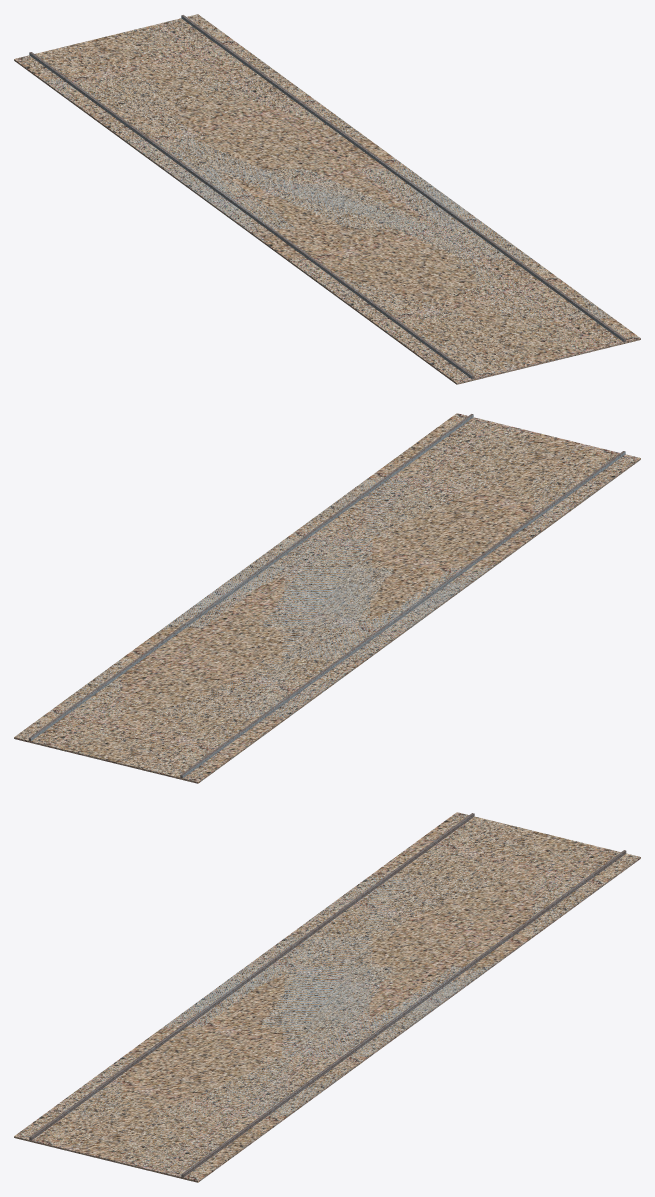
Rendered from JD_Crana.dae.
The picture shows the model from 3 angles, top to bottom: view 1: azimuth 30°, elevation 25°; view 2: azimuth 150°, elevation 25°; view 3: azimuth 330°, elevation 25°; orthographic projection.
Visible parts, largest first — view 1: Component_4, Component_3 (×2); view 2: Component_4, Component_3 (×2); view 3: Component_4, Component_3 (×2).
Part boxes in pixels (x1,y1,x2,y2): Component_4: (14,14,640,384); Component_3 (×2): (29,15,625,378); Component_4: (14,413,640,783); Component_3 (×2): (29,414,625,777); Component_4: (14,812,640,1182); Component_3 (×2): (29,813,626,1176).
Size of the model in its own units: 472 by 1969 by 11.02.
